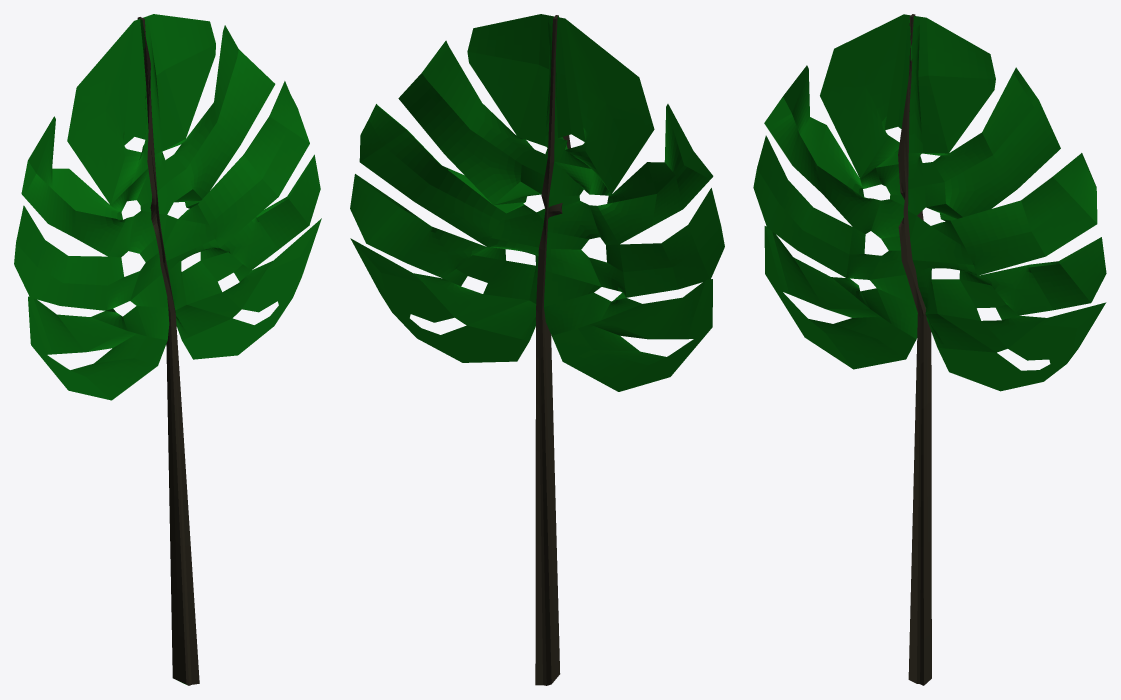
Rendered from Monsteraplant.fbx.
The picture shows the model from 3 angles, left to right: view 1: azimuth 30°, elevation 25°; view 2: azimuth 150°, elevation 25°; view 3: azimuth 330°, elevation 25°; orthographic projection. The views are drawn at different scales.
Visible parts, largest first — view 1: Plan.001; view 2: Plan.001; view 3: Plan.001.
Boxes of the visible parts, bbox=[...] form: Plan.001: bbox=[14, 14, 321, 685]; Plan.001: bbox=[350, 14, 724, 685]; Plan.001: bbox=[753, 14, 1106, 685].
Bounding box in the file's own units: 581 × 1097 × 121.
